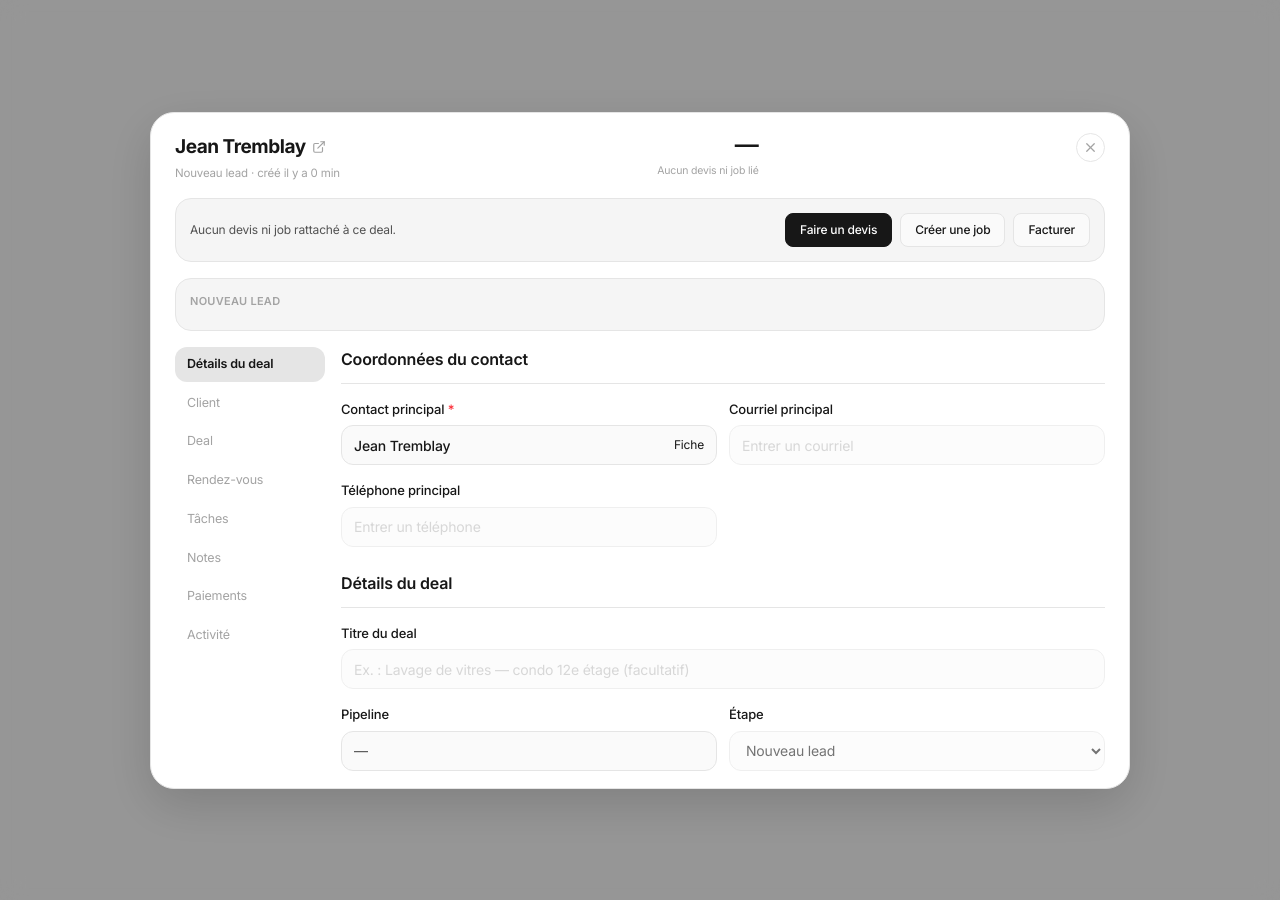
fiche du deal — abandonner › propose « Abandonner » sur un deal encore ouvert
Click the tab "Deal".
click(250, 442)  # box [175,424,325,459]
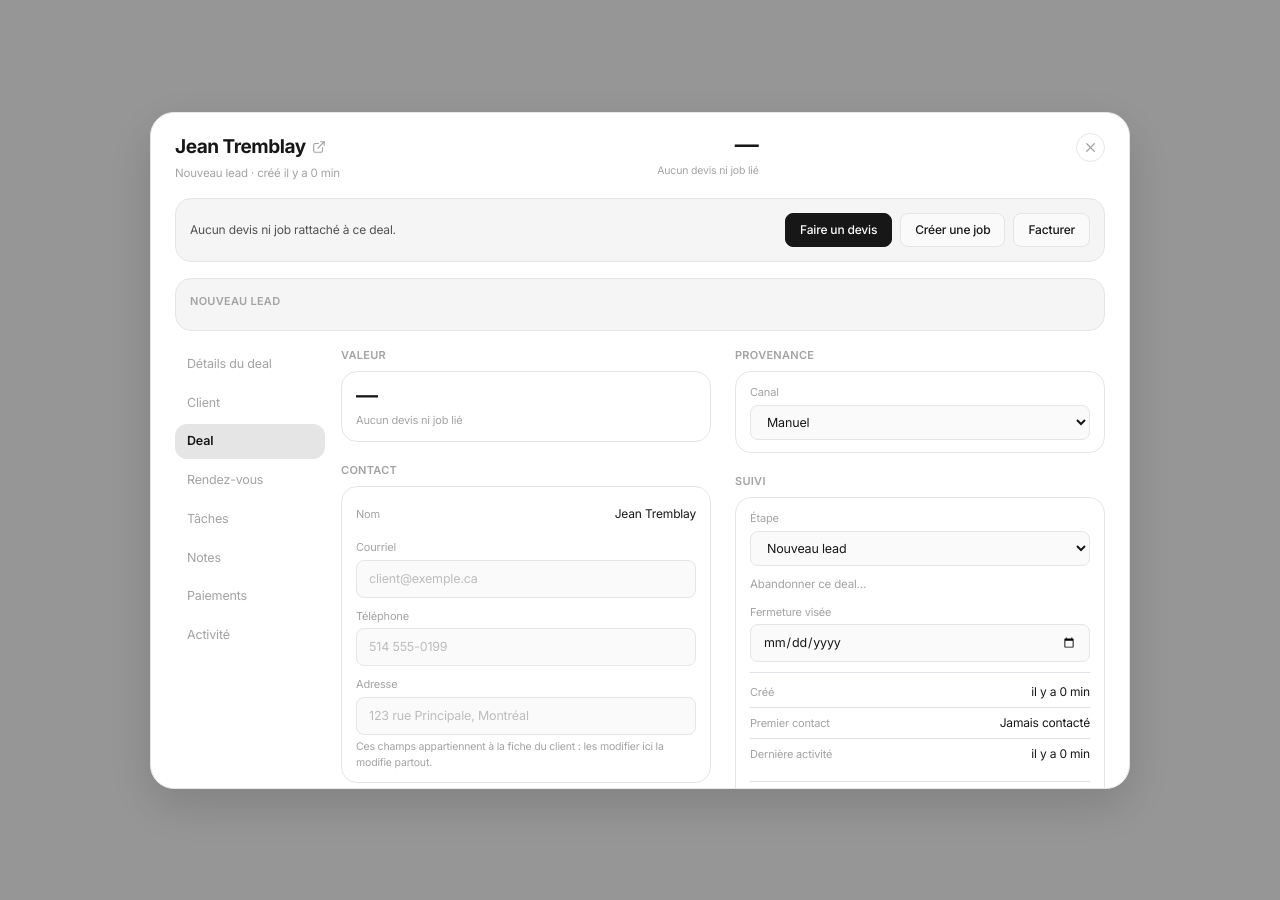
Expected: the button "Abandonner ce deal…" is shown, [750,576,866,593]
